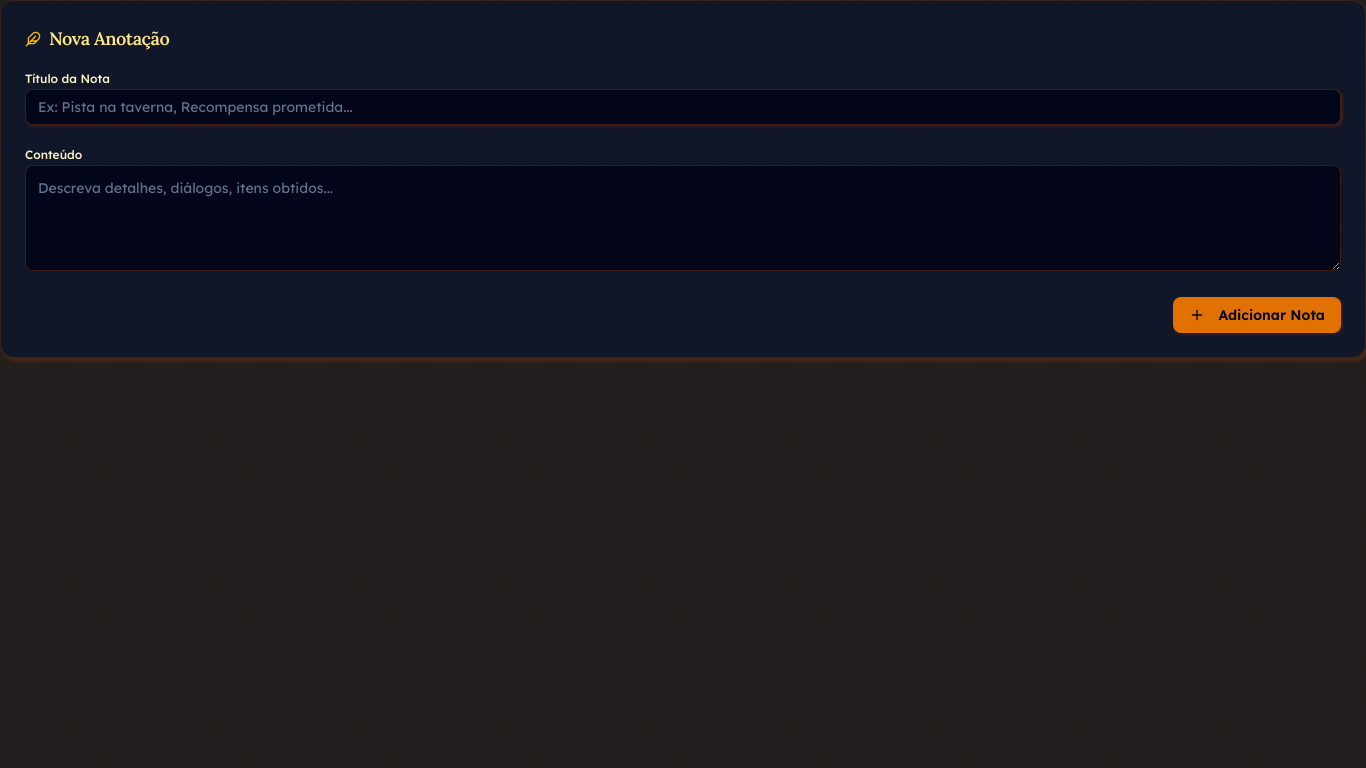
Test: Bug 2 & 3: Incremental Notes & SRD Translations › AddNoteForm Component › submits valid note payload to POST /api/characters/{id}/notes and clears inputs
In the field labelled "Título da Nota": [683, 107] box [25,89,1341,125], type "Mapa do Tesouro"
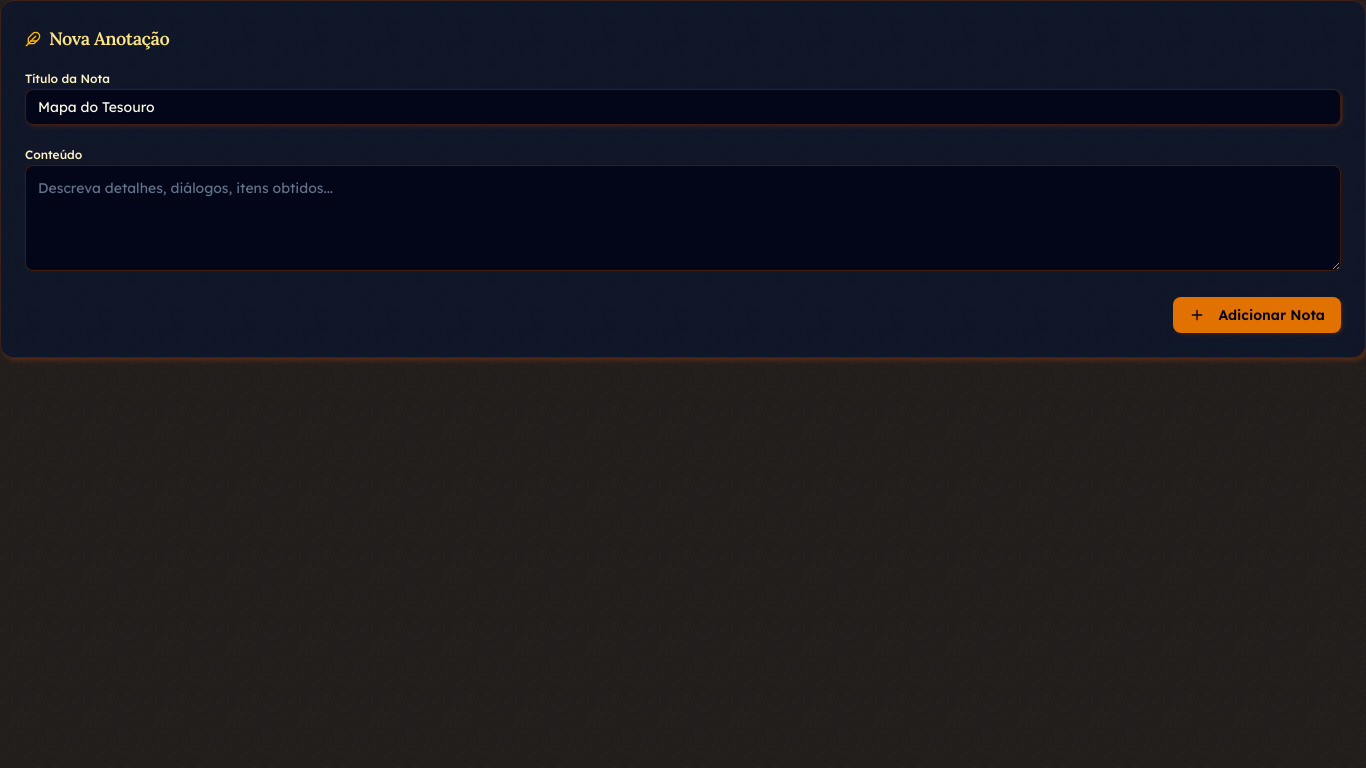
In the text box labelled "Conteúdo": [683, 218] box [25,165,1341,271], type "Marcado com um X vermelho nas colinas."
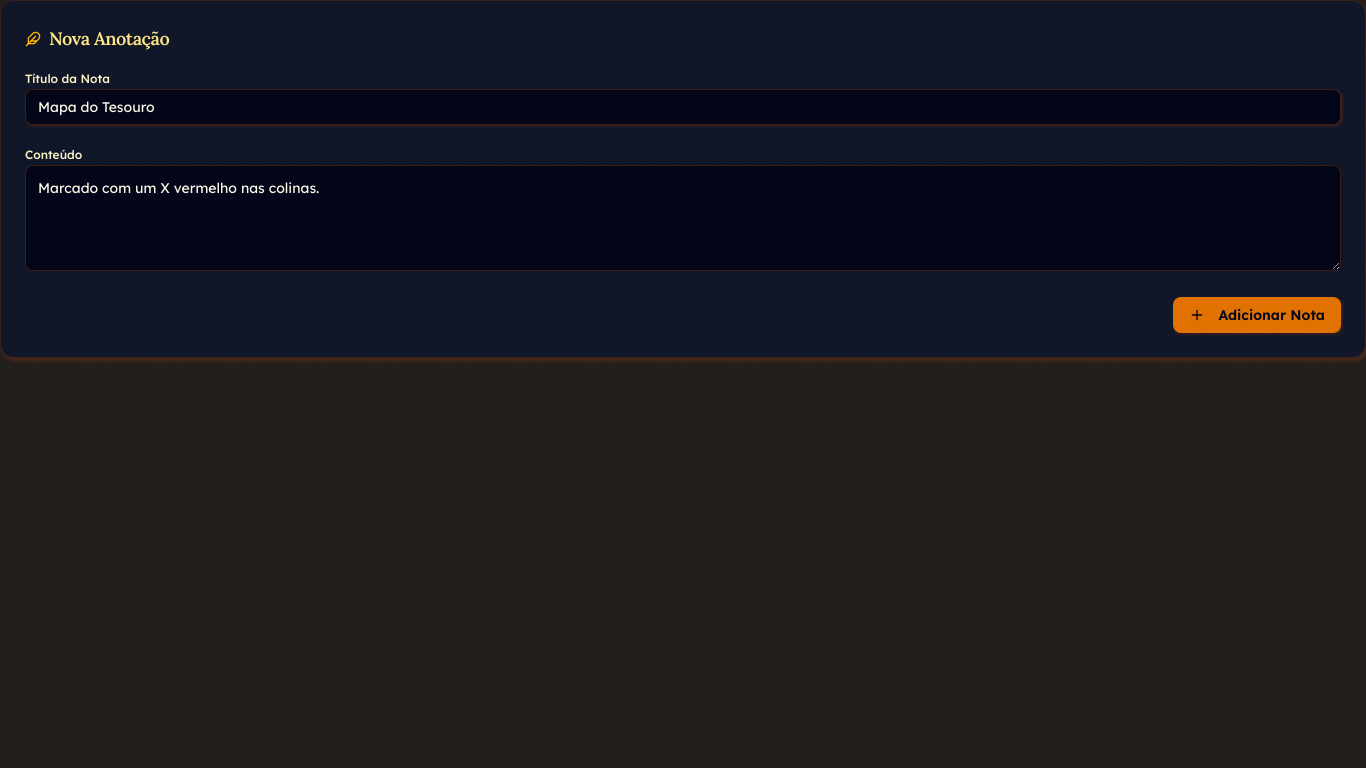
Click the button "Adicionar Nota": [1257, 315] box [1172,297,1341,333]
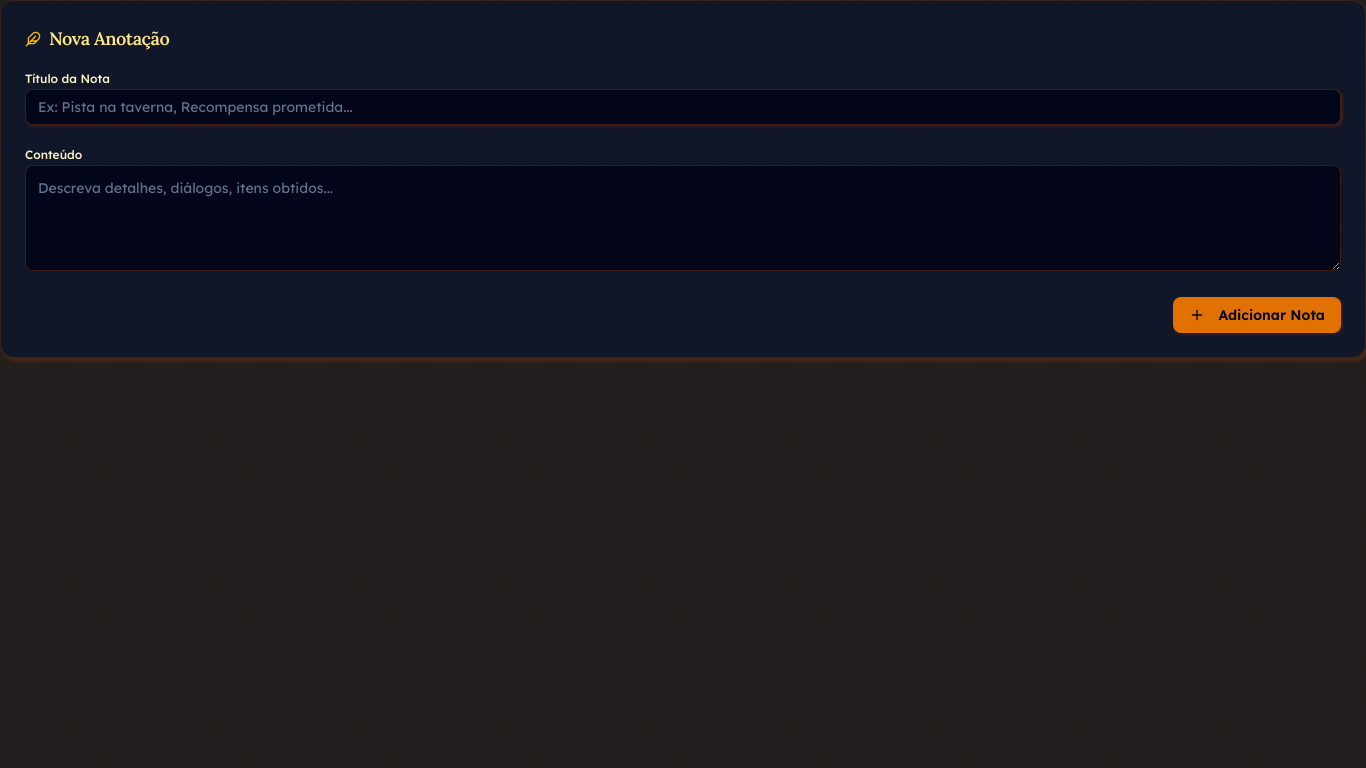
Expected: the field labelled "Título da Nota" is empty, [25,89,1341,125]
Expected: the text box labelled "Conteúdo" is empty, [25,165,1341,271]
